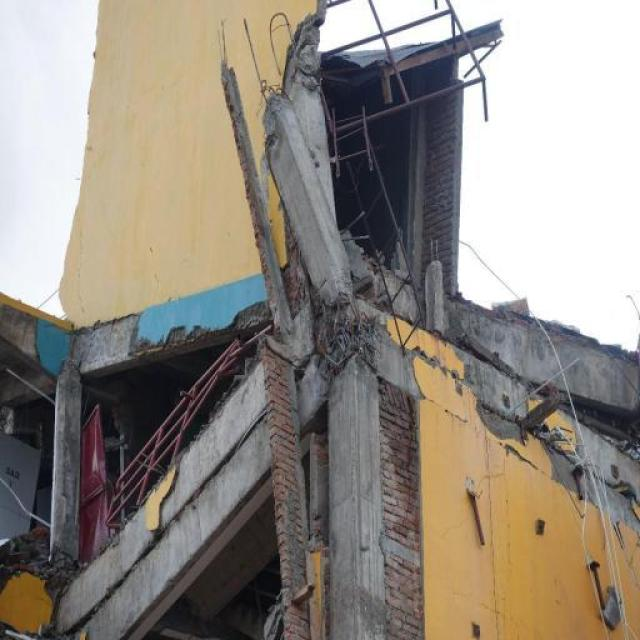D0w0: (314, 278, 375, 379)
